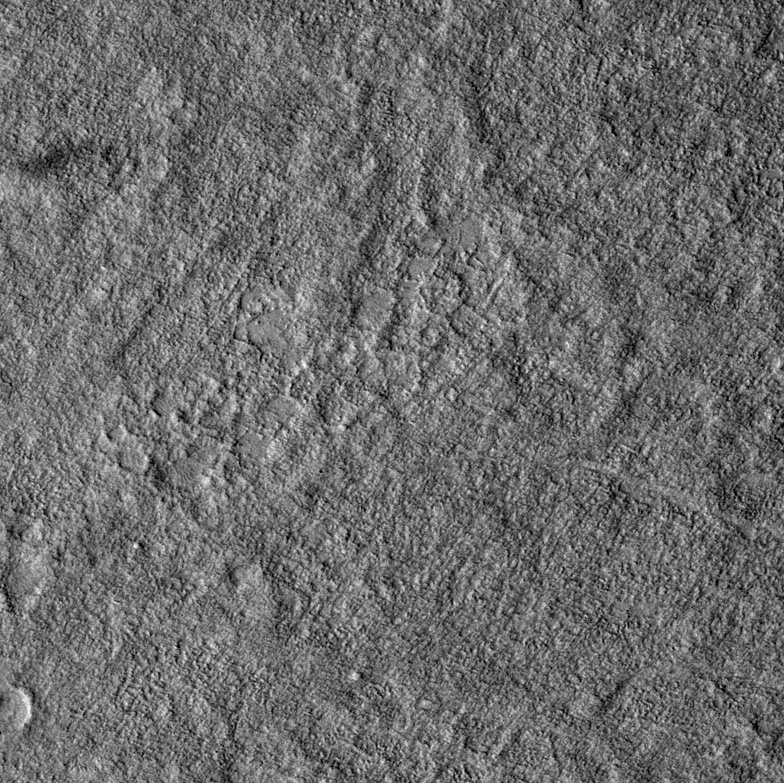dust_devil: (1, 140, 92, 198)
